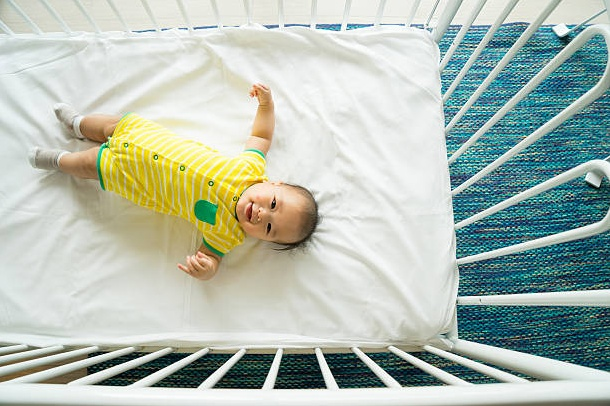baby: (29, 84, 318, 279)
crib: (0, 0, 609, 404)
